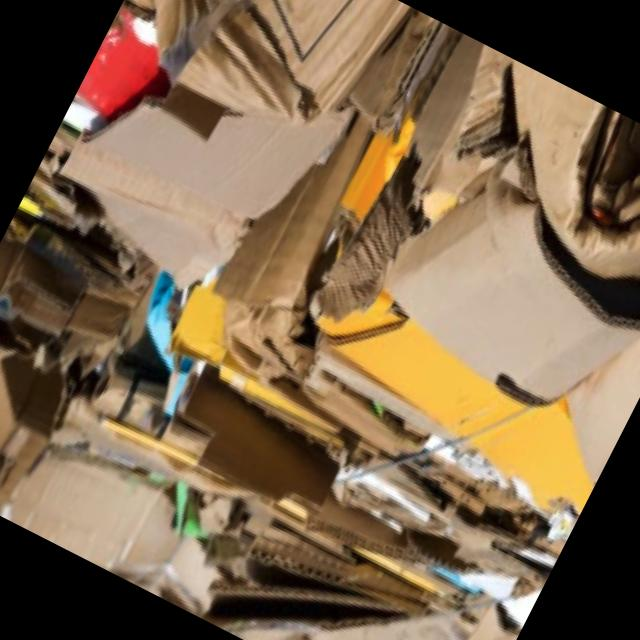Kardus: (0, 0, 640, 640), (315, 34, 640, 462)
